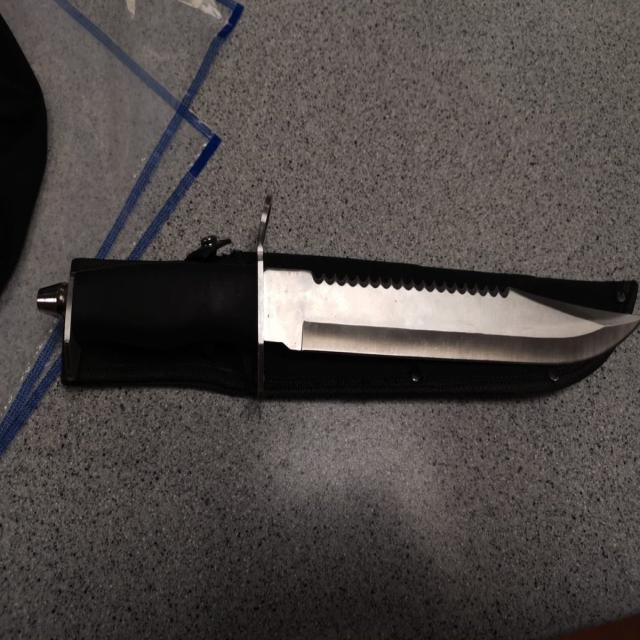Sharp-Object: (69, 253, 640, 404)
